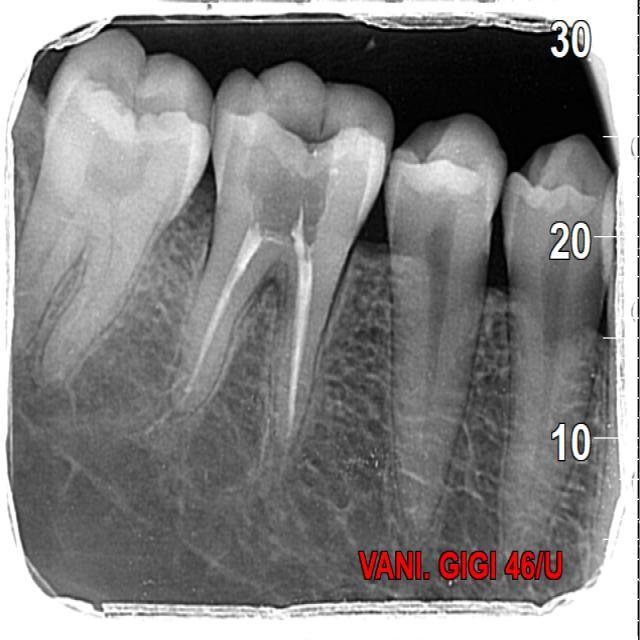individual-tooth-8tto: (174, 64, 401, 440), (382, 117, 507, 540)
